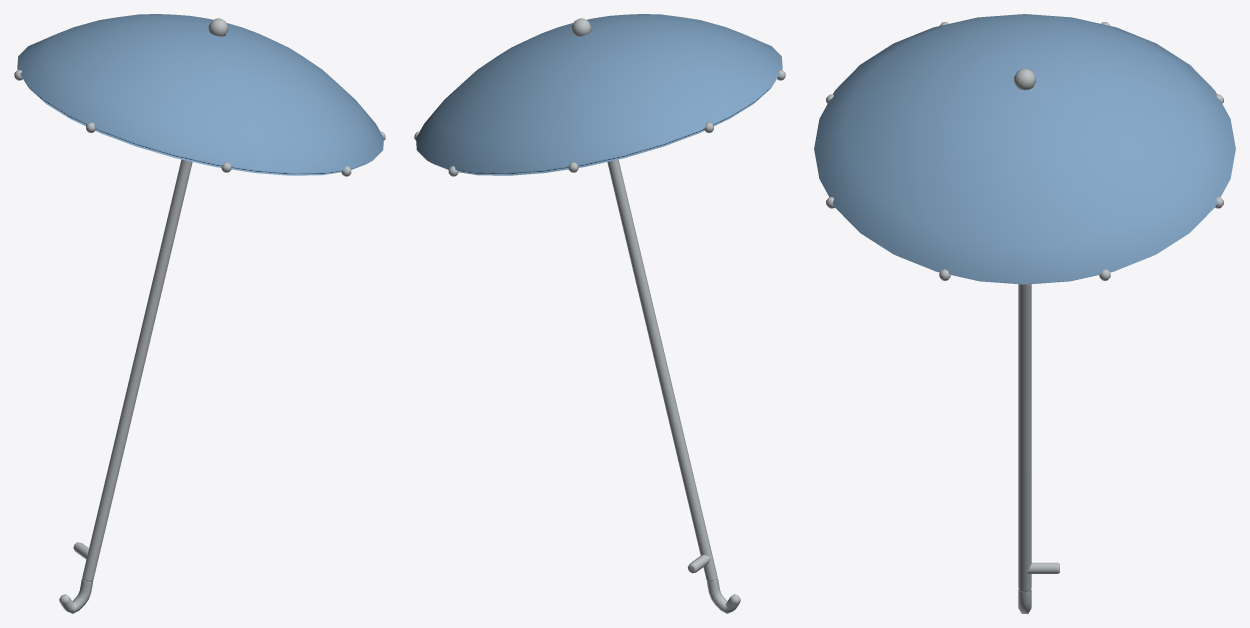
The model's file is dal_umbrella.glb.
3 views of the same model, side by side, from view 1: azimuth 30°, elevation 25°; view 2: azimuth 150°, elevation 25°; view 3: azimuth 270°, elevation 25° (orthographic). The views are drawn at different scales.
Parts seen in each view (by area): view 1: dal_umbrella_ArmR; view 2: dal_umbrella_ArmR; view 3: dal_umbrella_ArmR.
Part boxes in pixels (x1,y1,x2,y2): dal_umbrella_ArmR: [14, 14, 385, 613]; dal_umbrella_ArmR: [414, 14, 785, 613]; dal_umbrella_ArmR: [814, 14, 1235, 613].
Bounding box in the file's own units: 0.8703 × 1.47 × 0.9.
